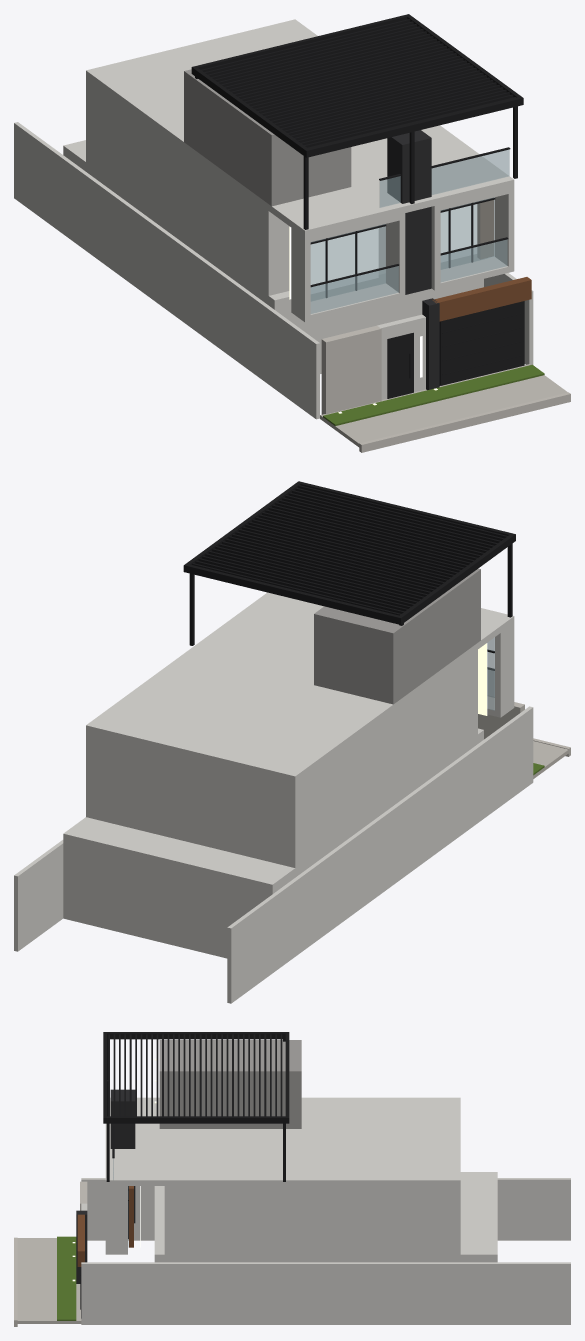
File: prototipo-2.glb
3 renders of one model, top to bottom at view 1: azimuth 30°, elevation 25°; view 2: azimuth 150°, elevation 25°; view 3: azimuth 270°, elevation 25°, orthographic. The views are drawn at different scales.
Parts seen in each view (by area): view 1: prototipo-2; view 2: prototipo-2; view 3: prototipo-2.
Part boxes in pixels (x1=…): prototipo-2: x1=14, y1=14, x2=570, y2=452; prototipo-2: x1=14, y1=481, x2=570, y2=1003; prototipo-2: x1=14, y1=1032, x2=570, y2=1326.
Bounding box in the file's own units: 8.45 × 9.55 × 22.75.
